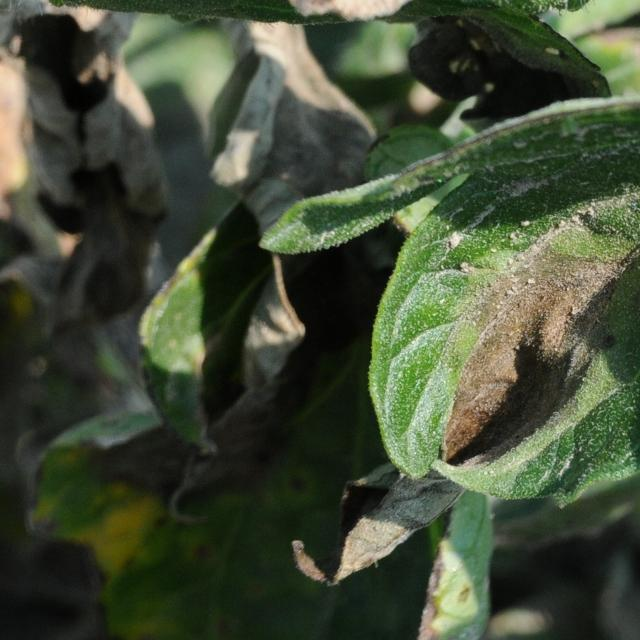Tomato leaf late blight: (332, 83, 640, 556), (214, 0, 640, 55)
